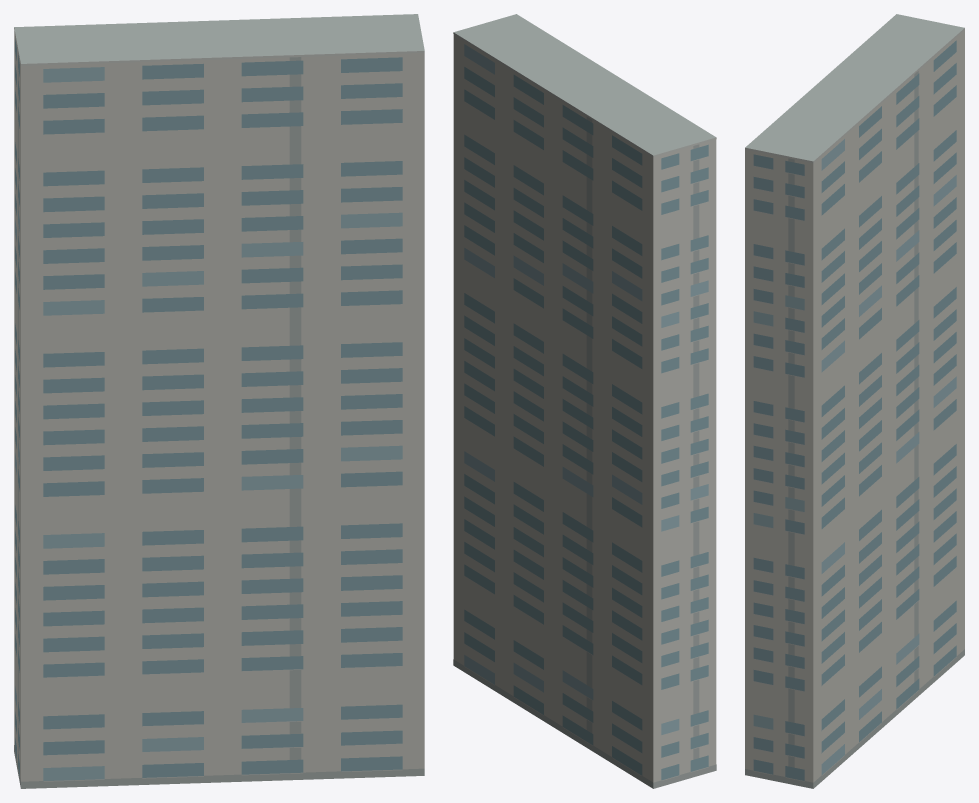
File: residential-ded4f035-d828-4add-b319-7abe02f65231.glb
3 renders of one model, left to right at view 1: azimuth 30°, elevation 25°; view 2: azimuth 150°, elevation 25°; view 3: azimuth 270°, elevation 25°, orthographic. The views are drawn at different scales.
Parts seen in each view (by area): view 1: residential-ded4f035-d828-4add-b319-7abe02f65231.tmp; view 2: residential-ded4f035-d828-4add-b319-7abe02f65231.tmp; view 3: residential-ded4f035-d828-4add-b319-7abe02f65231.tmp.
Boxes of the visible parts, x1,y1,x2,y2 form: residential-ded4f035-d828-4add-b319-7abe02f65231.tmp: [14, 14, 424, 788]; residential-ded4f035-d828-4add-b319-7abe02f65231.tmp: [453, 14, 716, 788]; residential-ded4f035-d828-4add-b319-7abe02f65231.tmp: [745, 14, 964, 788].
Size of the model in its own units: 41.33 by 82 by 26.05.
